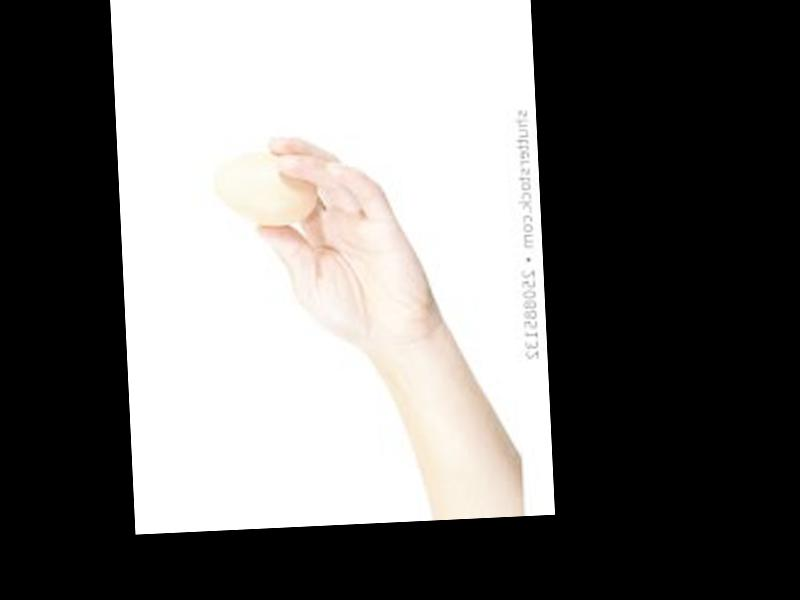Eggs: (210, 149, 322, 228)
